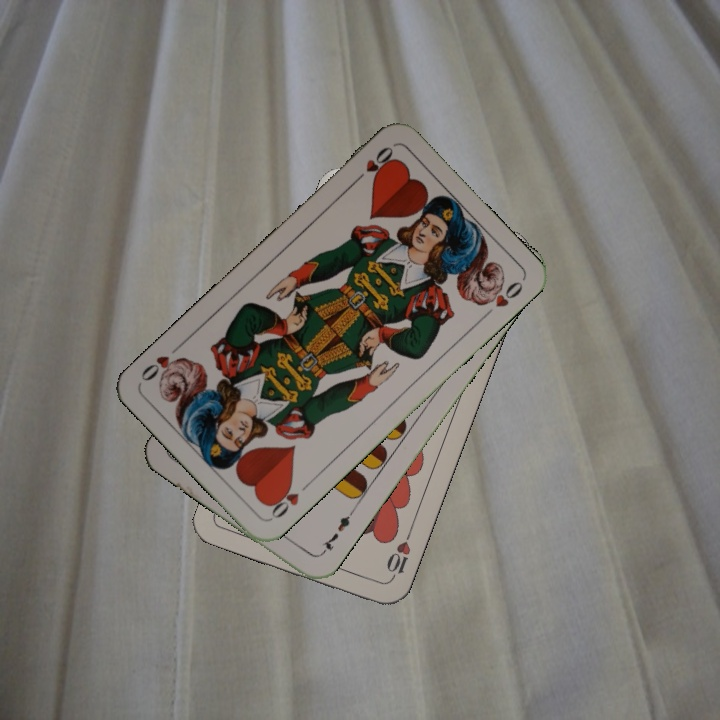E7: (316, 507, 357, 558)
H10: (382, 527, 414, 584)
HO: (263, 477, 314, 522), (349, 142, 397, 187)
